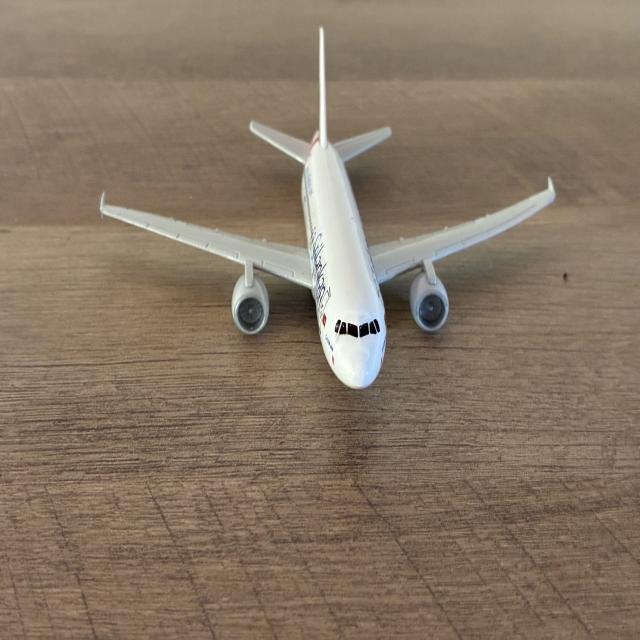air-plane: (100, 27, 555, 389)
